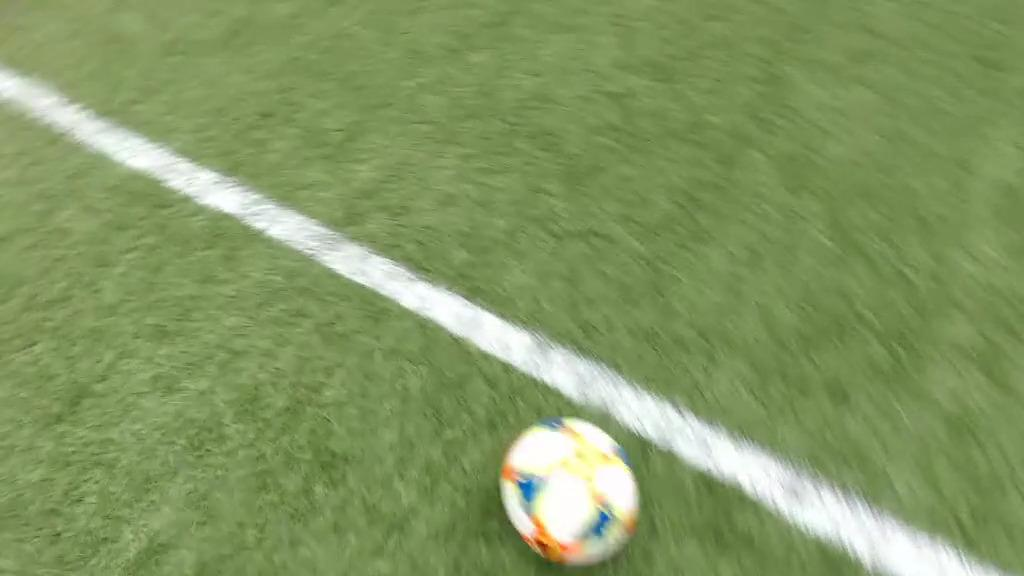ball: (502, 417, 636, 565)
